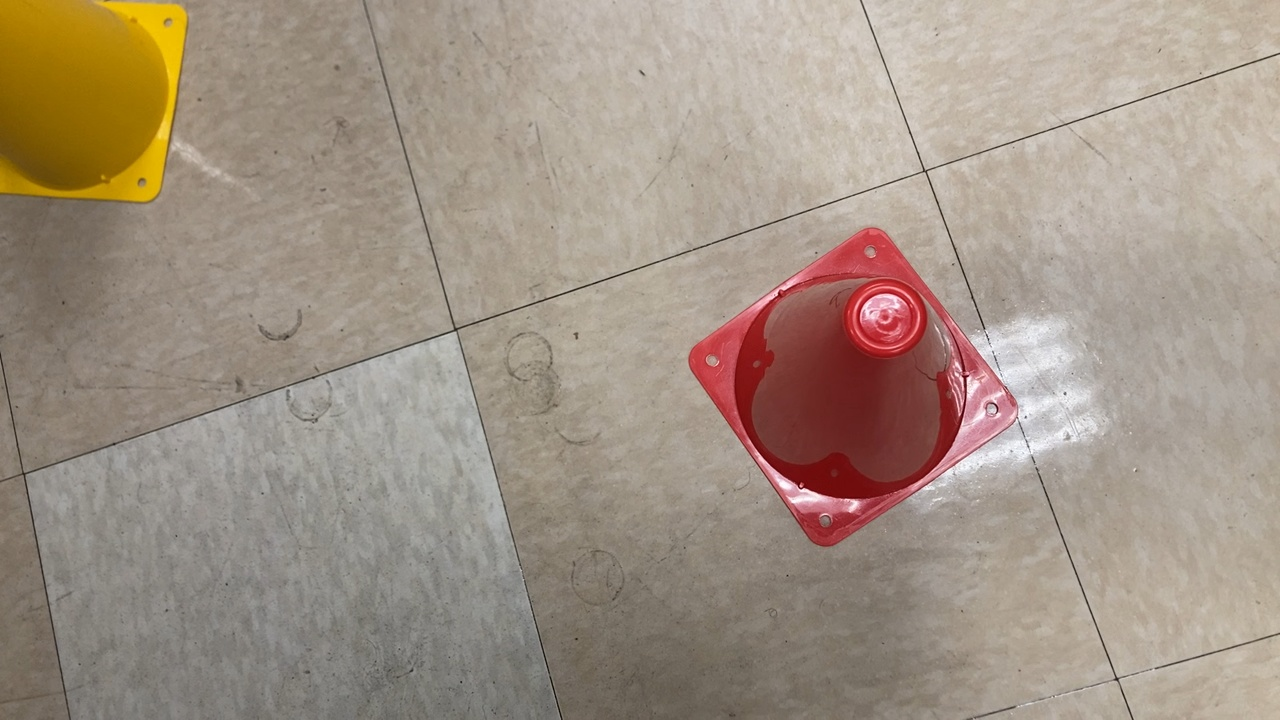red_cone: (680, 222, 1024, 555)
